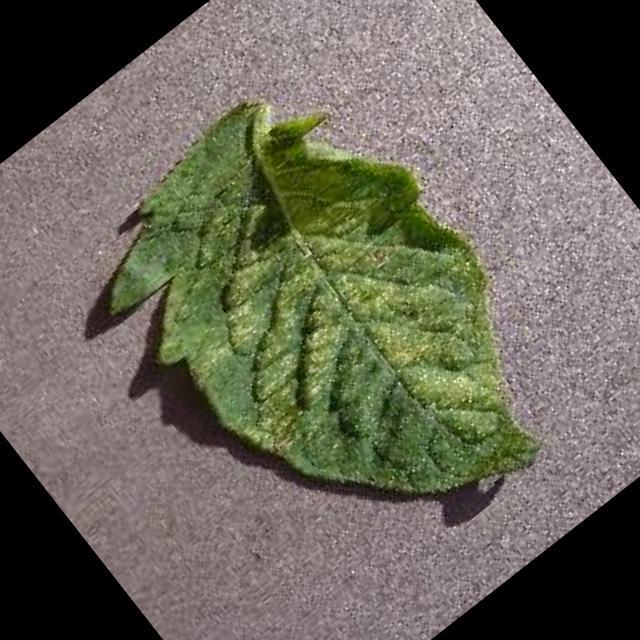Tomato spider mites leaf: (55, 40, 606, 618)
